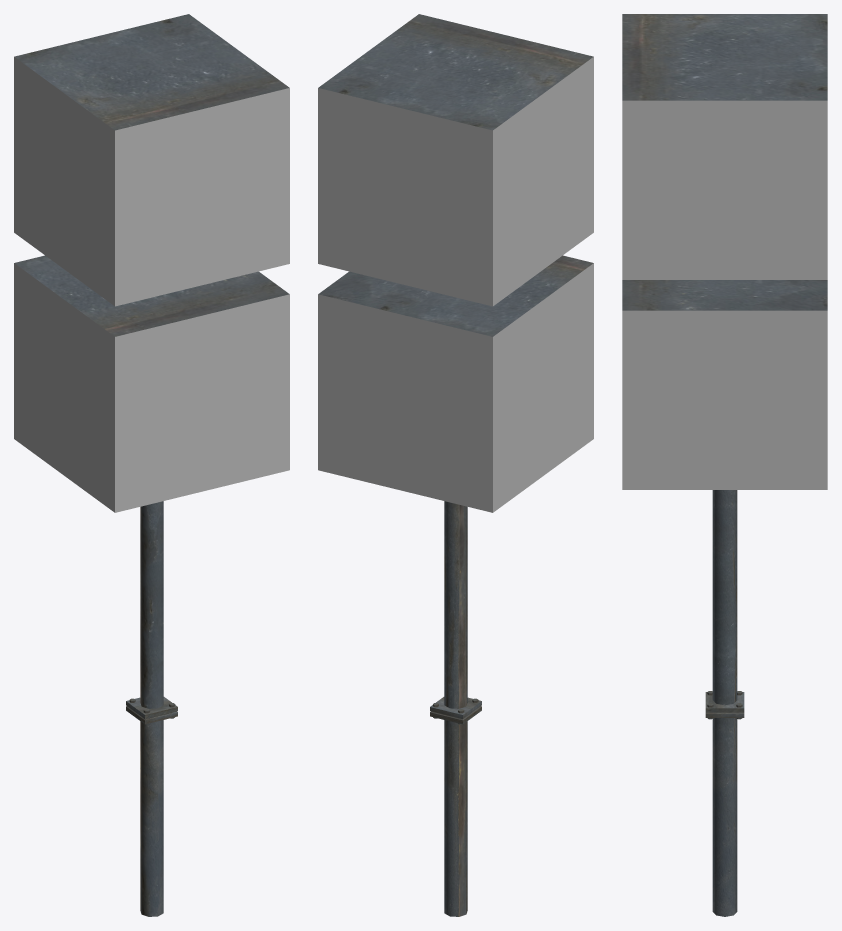
Rendered from Outdoor-i-4.fbx.
The picture shows the model from 3 angles, left to right: view 1: azimuth 30°, elevation 25°; view 2: azimuth 150°, elevation 25°; view 3: azimuth 270°, elevation 25°; orthographic projection.
Visible parts, largest first — view 1: Outdoor-I; view 2: Outdoor-I; view 3: Outdoor-I.
Boxes of the visible parts, x1,y1,x2,y2 form: Outdoor-I: [14, 14, 289, 916]; Outdoor-I: [318, 14, 593, 916]; Outdoor-I: [622, 14, 827, 916].
Size of the model in its own units: 360 by 1652 by 360.
